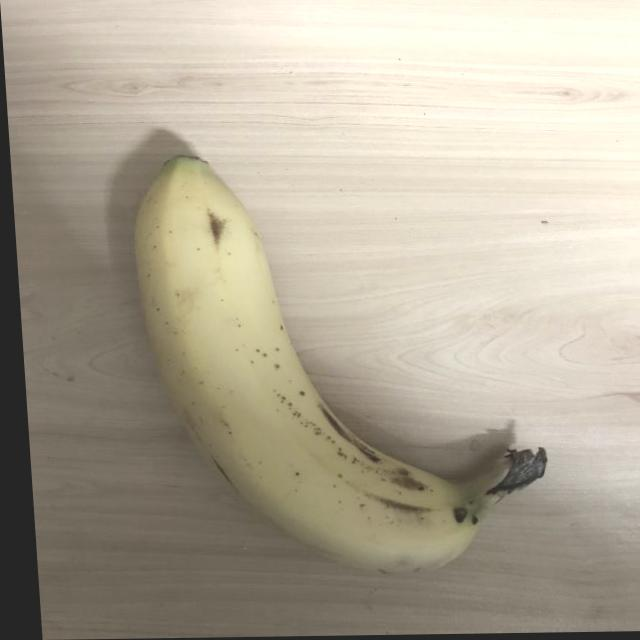banana: (119, 137, 560, 578)
